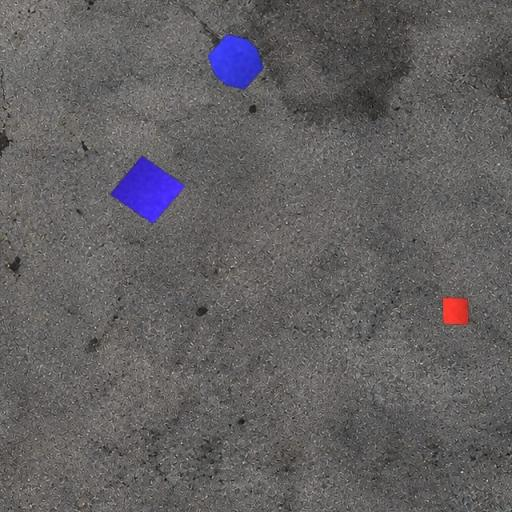BLUE_SQUARE: (110, 155, 186, 225)
RED_SQUARE: (442, 296, 470, 326)
